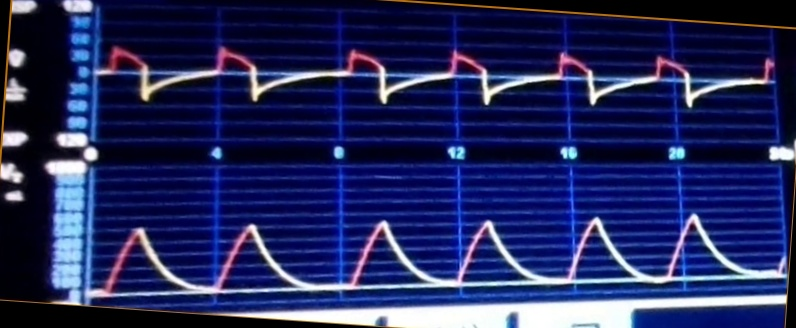Normal Flow: (99, 33, 774, 125)
Normal Volume: (95, 194, 786, 295)
